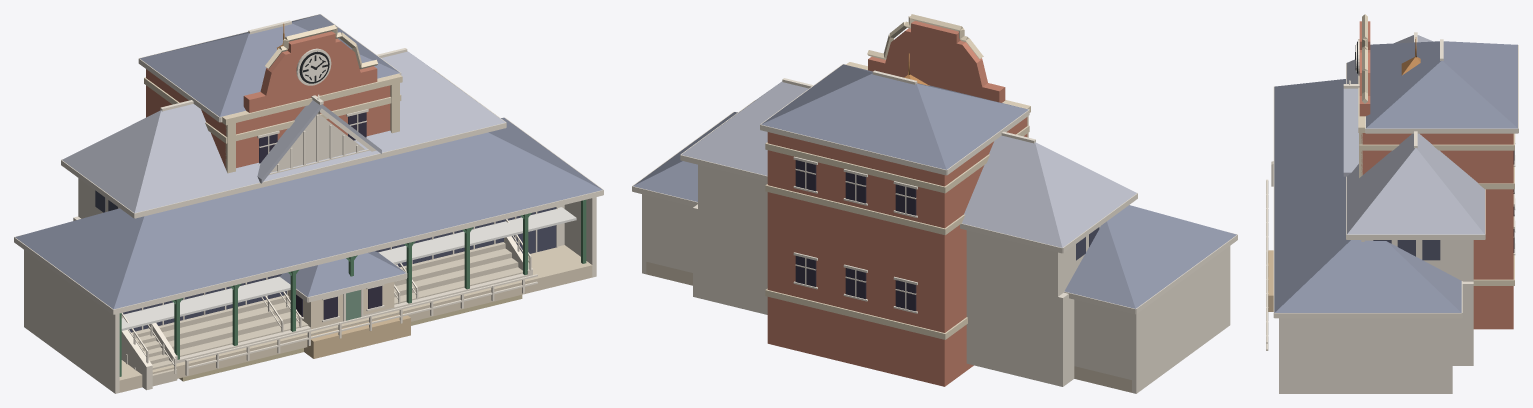
Rendered from gen-ring-l-small_stands.glb.
3 renders of one model, left to right at view 1: azimuth 30°, elevation 25°; view 2: azimuth 150°, elevation 25°; view 3: azimuth 270°, elevation 25°, orthographic. The views are drawn at different scales.
Visible parts, largest first — view 1: gen_veranda_wing, gen_pavilion_small, park_clock_house, little_pavilion; view 2: park_clock_house, gen_pavilion_small, gen_veranda_wing; view 3: gen_veranda_wing, park_clock_house, gen_pavilion_small, little_pavilion.
Boxes of the visible parts, bbox=[...] form: gen_veranda_wing: bbox=[14, 117, 603, 393]; gen_pavilion_small: bbox=[61, 23, 537, 390]; park_clock_house: bbox=[138, 14, 522, 381]; little_pavilion: bbox=[280, 251, 410, 358]; park_clock_house: bbox=[760, 14, 1030, 386]; gen_pavilion_small: bbox=[680, 53, 1137, 386]; gen_veranda_wing: bbox=[632, 111, 1237, 393]; gen_veranda_wing: bbox=[1273, 79, 1462, 393]; park_clock_house: bbox=[1355, 14, 1518, 329]; gen_pavilion_small: bbox=[1266, 32, 1485, 365]; little_pavilion: bbox=[1268, 250, 1273, 311].
Size of the model in its own units: 35.3 by 19.15 by 16.6.
